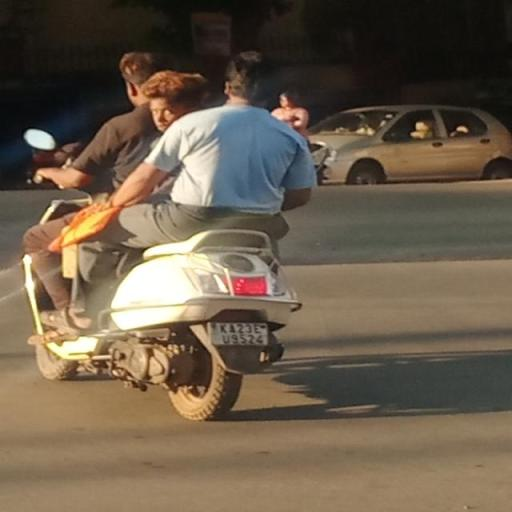tripple riding: (14, 47, 320, 239)
